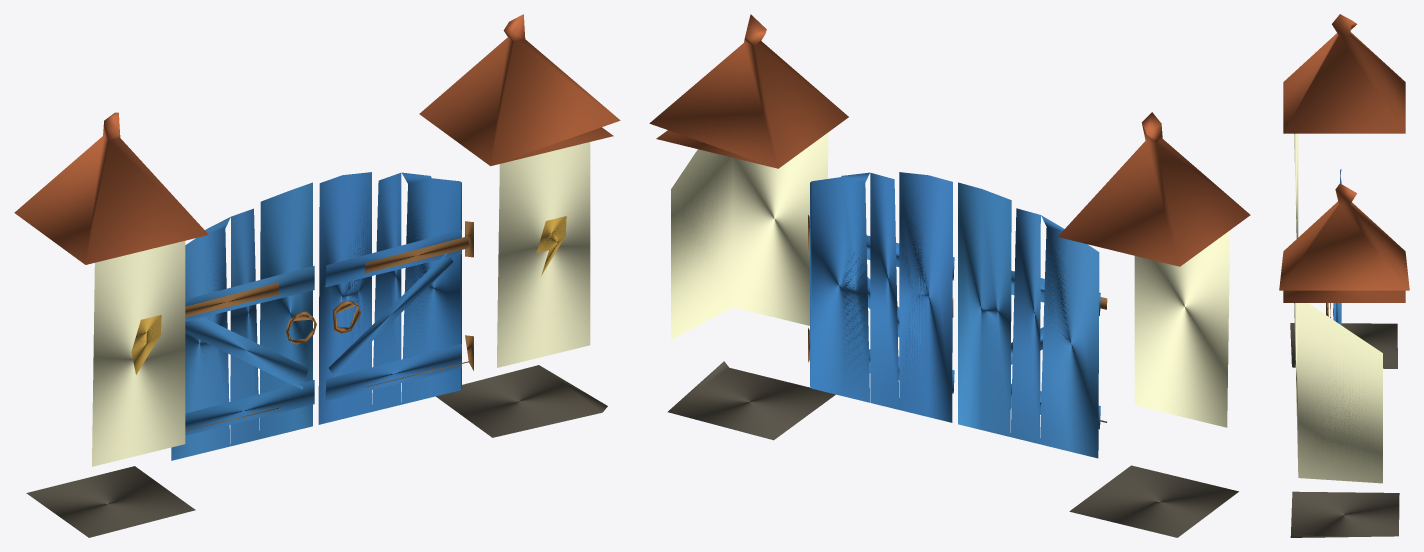
File: decor_garden-gate_t1_azure.glb
The picture shows the model from 3 angles, left to right: view 1: azimuth 30°, elevation 25°; view 2: azimuth 150°, elevation 25°; view 3: azimuth 270°, elevation 25°; orthographic projection. The views are drawn at different scales.
Parts seen in each view (by area): view 1: azure_wood, plaster, terracotta, stone_dark, bronze, gold; view 2: azure_wood, plaster, terracotta, stone_dark; view 3: terracotta, plaster, stone_dark, azure_wood.
Boxes of the visible parts, <box> form: azure_wood: <box>171,172,461,460</box>; plaster: <box>92,142,590,466</box>; terracotta: <box>14,14,620,264</box>; stone_dark: <box>26,365,607,537</box>; bronze: <box>185,221,473,431</box>; gold: <box>131,216,566,374</box>; azure_wood: <box>810,172,1100,458</box>; plaster: <box>671,132,1229,427</box>; terracotta: <box>649,14,1250,266</box>; stone_dark: <box>667,361,1238,537</box>; terracotta: <box>1279,14,1409,302</box>; plaster: <box>1294,133,1382,483</box>; stone_dark: <box>1290,323,1399,537</box>; azure_wood: <box>1333,169,1341,325</box>.
Bounding box in the file's own units: 2.05 × 1.44 × 0.5091.
